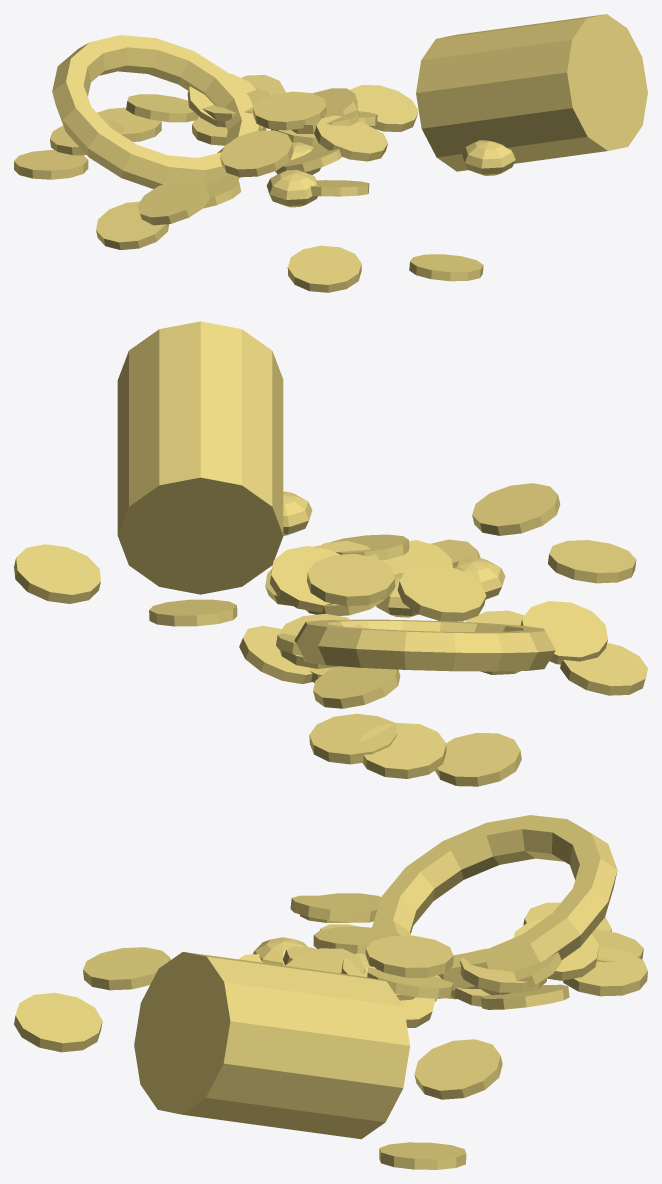
The model's file is treasure_pile.glb.
The picture shows the model from 3 angles, top to bottom: view 1: azimuth 30°, elevation 25°; view 2: azimuth 150°, elevation 25°; view 3: azimuth 270°, elevation 25°; orthographic projection. The views are drawn at different scales.
Visible parts, largest first — view 1: treasure_pile; view 2: treasure_pile; view 3: treasure_pile.
Boxes of the visible parts, <box> form: treasure_pile: <box>14,14,647,292</box>; treasure_pile: <box>14,321,647,786</box>; treasure_pile: <box>14,815,647,1169</box>.
Size of the model in its own units: 0.1221 by 0.0419 by 0.1148.
